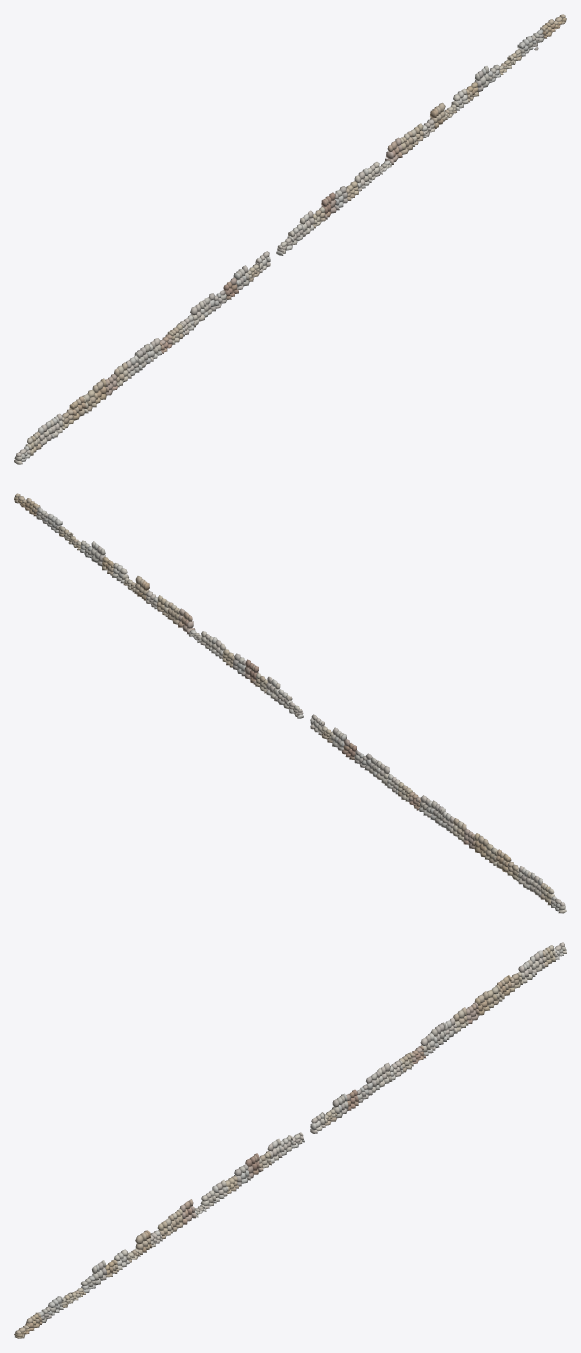
The model's file is farm_-6_3_near.glb.
3 views of the same model, one above another, from view 1: azimuth 90°, elevation 25°; view 2: azimuth 150°, elevation 25°; view 3: azimuth 270°, elevation 25° (orthographic). The views are drawn at different scales.
Visible parts, largest first — view 1: geometry_0; view 2: geometry_0; view 3: geometry_0.
Boxes of the visible parts, <box> form: geometry_0: <box>14,14,566,464</box>; geometry_0: <box>14,493,566,913</box>; geometry_0: <box>14,942,566,1338</box>.
Size of the model in its own units: 68.82 by 3.33 by 38.61.
